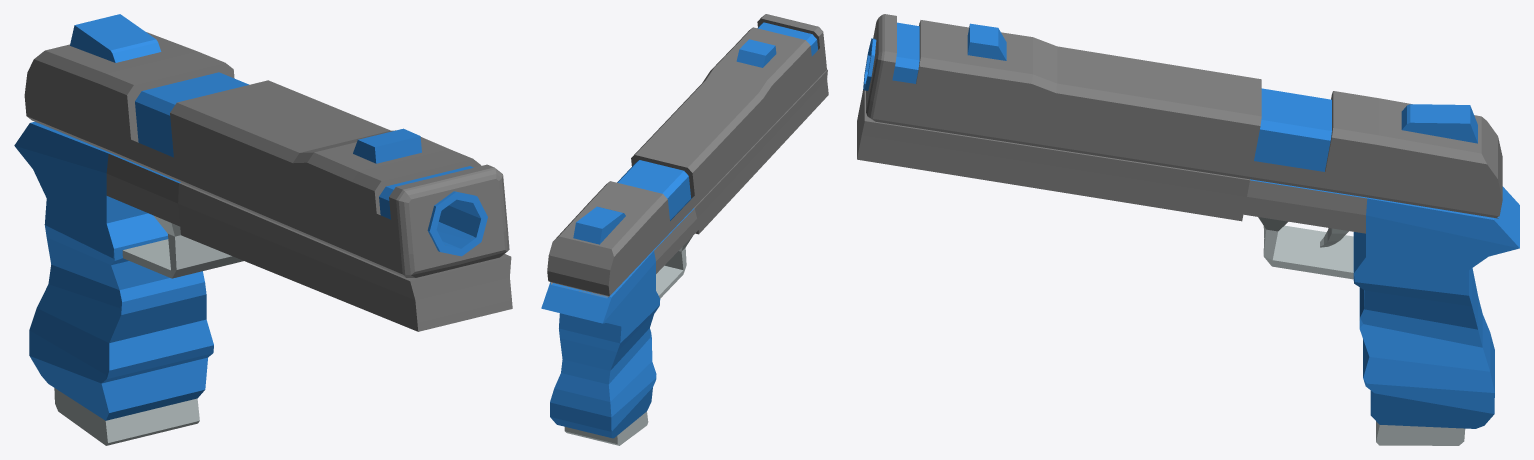
Rendered from PistolDesign03.fbx.
3 views of the same model, side by side, from view 1: azimuth 30°, elevation 25°; view 2: azimuth 150°, elevation 25°; view 3: azimuth 270°, elevation 25° (orthographic). The views are drawn at different scales.
Visible parts, largest first — view 1: Design03; view 2: Design03; view 3: Design03.
Boxes of the visible parts, bbox=[...] form: Design03: bbox=[14, 14, 512, 445]; Design03: bbox=[541, 14, 828, 445]; Design03: bbox=[857, 14, 1519, 445].
Bounding box in the file's own units: 72.96 × 310 × 472.
